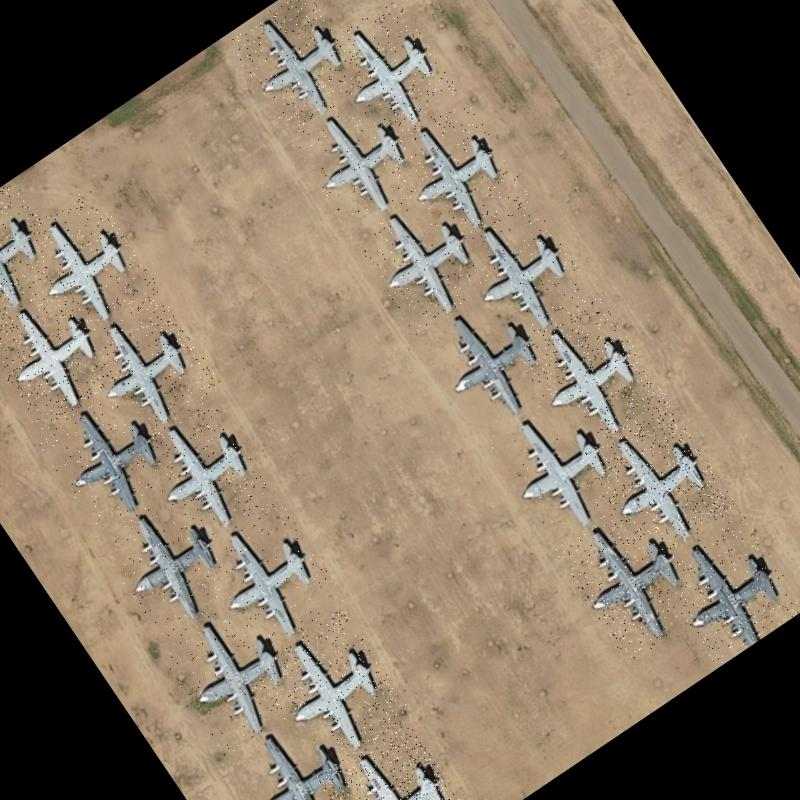A2: (250, 606, 416, 776), (511, 290, 671, 458), (189, 493, 350, 658), (552, 496, 710, 664), (579, 399, 738, 564), (154, 592, 313, 756), (442, 194, 598, 356), (415, 280, 570, 440), (95, 486, 249, 646), (6, 186, 159, 344), (484, 389, 636, 548), (69, 290, 222, 446), (34, 380, 185, 536), (126, 394, 276, 550), (381, 94, 530, 250), (350, 182, 500, 336), (652, 511, 800, 667), (288, 86, 432, 236), (319, 0, 462, 146), (225, 0, 372, 139), (0, 278, 127, 432), (220, 703, 380, 800), (315, 716, 479, 800), (0, 179, 74, 333)
